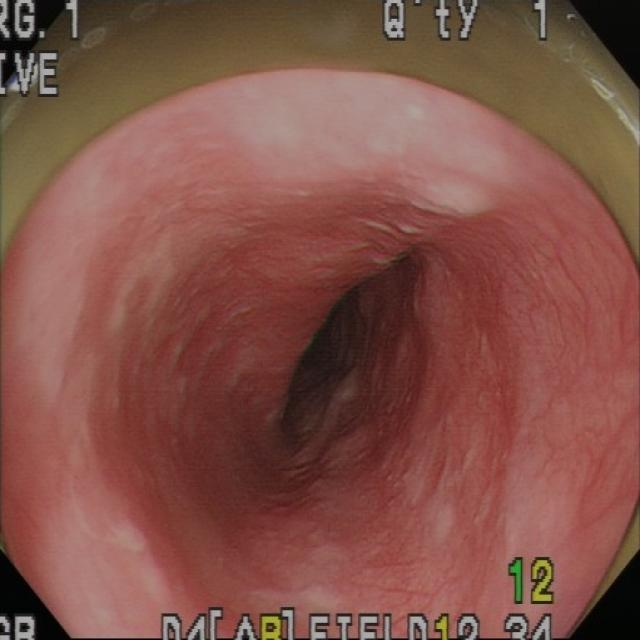A: (445, 272, 524, 522)
E: (273, 241, 441, 465)
S: (160, 608, 483, 640), (383, 3, 558, 45), (3, 3, 83, 45), (3, 50, 63, 101), (507, 558, 556, 608), (506, 614, 556, 640), (2, 614, 39, 640)
U: (567, 15, 640, 158)
